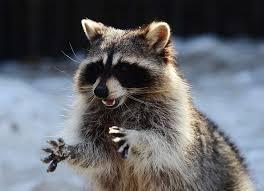raccoon: (35, 9, 263, 191)
